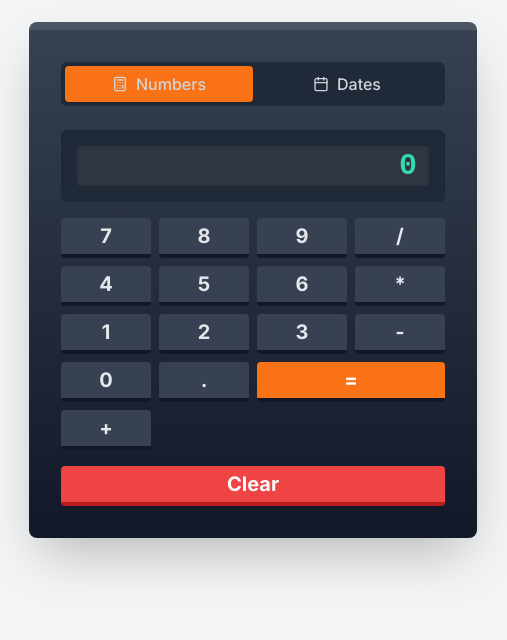
Scenario: Dates Calculator › should calculate the dates
This screenshot has width=507, height=640.
Click the tab with test id "dates-tab": click(347, 84) [253,66,441,102]
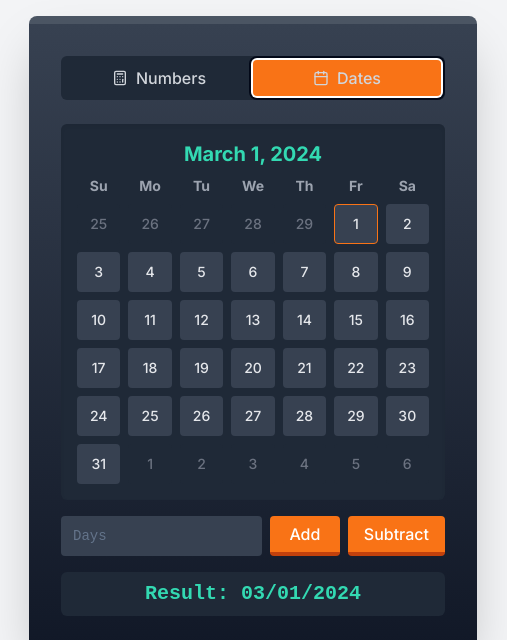
In the number field with test id "days-input": (162, 536) [61,516,262,556], type "10"
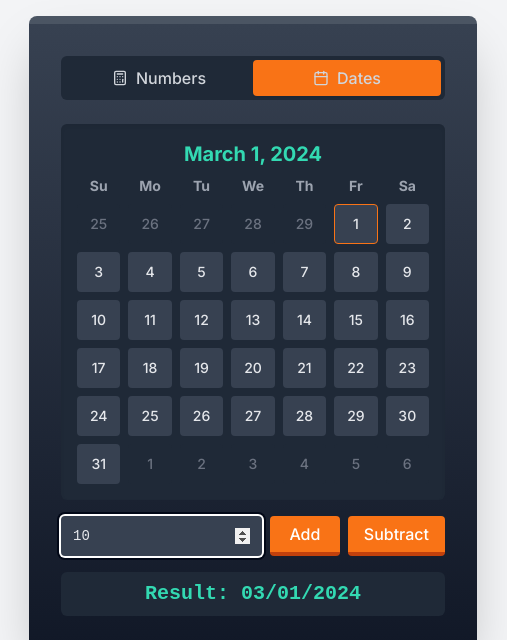
Click the button with test id "add-button": click(305, 536) [270,516,340,556]
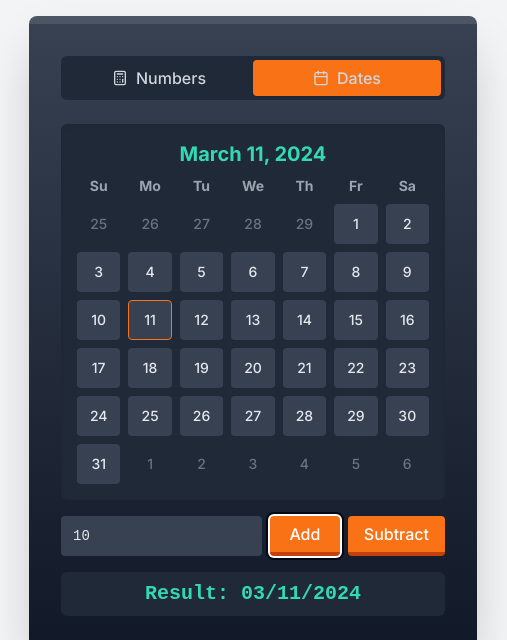
expect the text "March 11, 2024" is shown: met, box [180,142,326,166]
Replace the text in the number field with test id "days-input" with "-11": (162, 536) [61,516,262,556]
Click the button with test id "add-button": click(305, 536) [270,516,340,556]
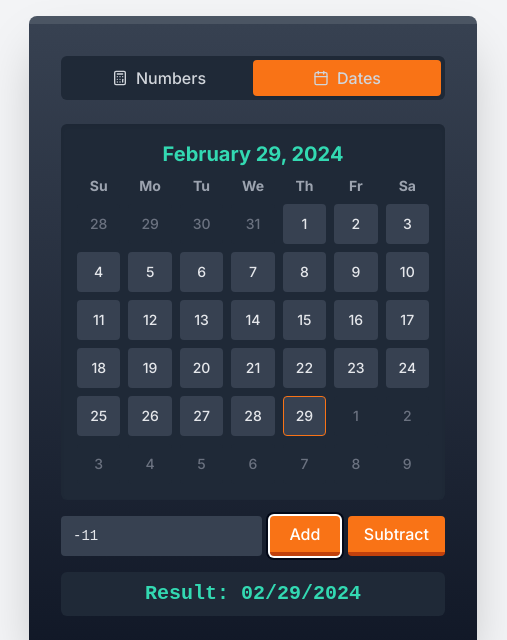
expect the text "February 29, 2024" is shown: met, box [163,142,343,166]
Replace the text in the number field with test id "days-input" with "3": (162, 536) [61,516,262,556]
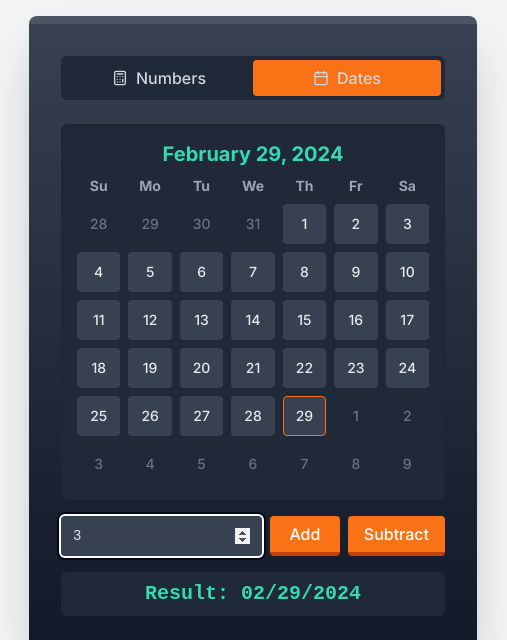
Click the button with test id "subtract-button": click(397, 536) [348,516,445,556]
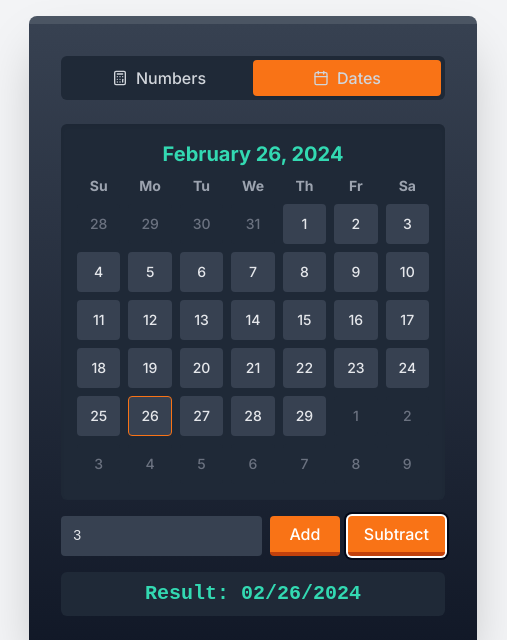
expect the text "February 26, 2024" is shown: met, box [163,142,343,166]
